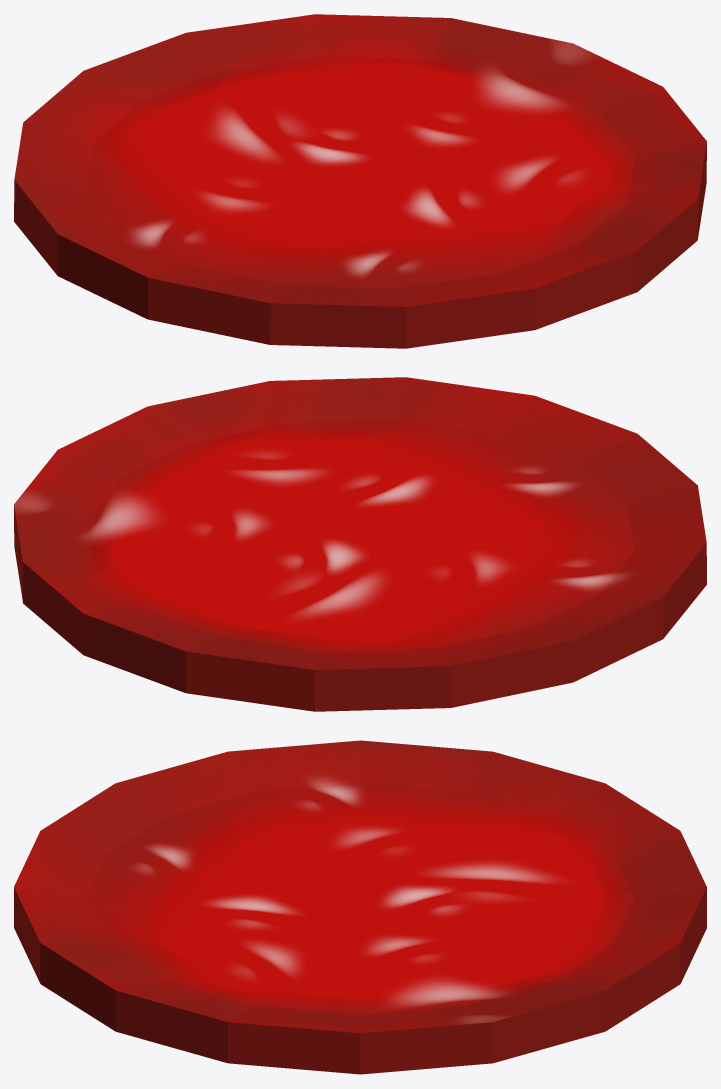
File: Pepperoni.fbx
3 renders of one model, top to bottom at view 1: azimuth 30°, elevation 25°; view 2: azimuth 150°, elevation 25°; view 3: azimuth 270°, elevation 25°, orthographic.
Parts seen in each view (by area): view 1: Circle; view 2: Circle; view 3: Circle.
Boxes of the visible parts, bbox=[...] form: Circle: bbox=[14, 14, 706, 348]; Circle: bbox=[14, 377, 706, 711]; Circle: bbox=[14, 740, 706, 1074].
Size of the model in its own units: 51.55 by 3.39 by 51.53.
1 material, 1 textured.
